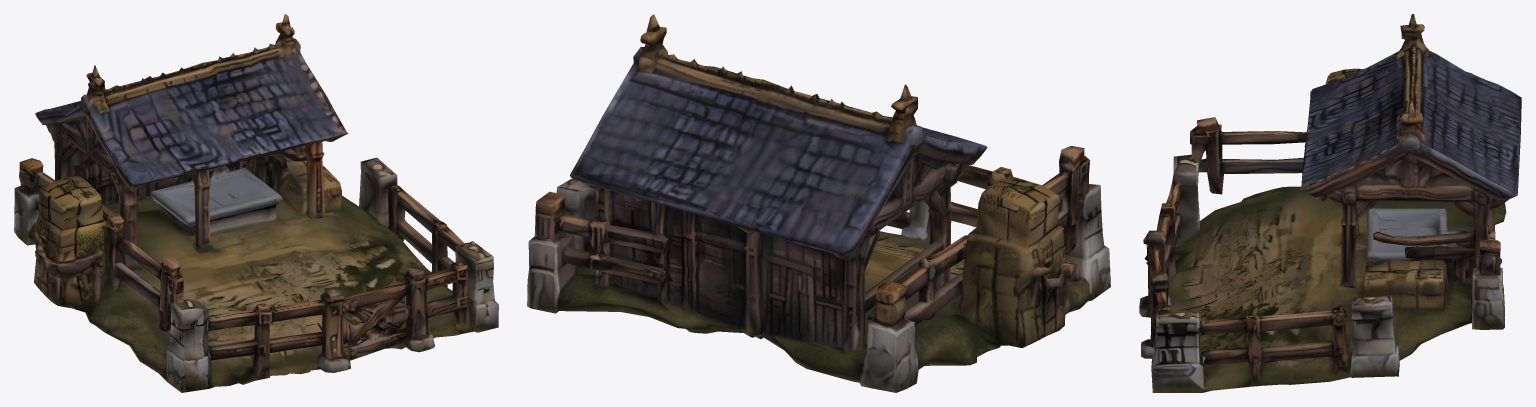
Rendered from n_barn.glb.
3 renders of one model, left to right at view 1: azimuth 30°, elevation 25°; view 2: azimuth 150°, elevation 25°; view 3: azimuth 270°, elevation 25°, orthographic. The views are drawn at different scales.
Visible parts, largest first — view 1: tripo_node_a6e2cb6d-843f-4073-af24-3c14b2e3cc81; view 2: tripo_node_a6e2cb6d-843f-4073-af24-3c14b2e3cc81; view 3: tripo_node_a6e2cb6d-843f-4073-af24-3c14b2e3cc81.
Part boxes in pixels (x1=…): tripo_node_a6e2cb6d-843f-4073-af24-3c14b2e3cc81: x1=14, y1=14, x2=498, y2=392; tripo_node_a6e2cb6d-843f-4073-af24-3c14b2e3cc81: x1=527, y1=14, x2=1110, y2=392; tripo_node_a6e2cb6d-843f-4073-af24-3c14b2e3cc81: x1=1139, y1=14, x2=1521, y2=392.
Size of the model in its own units: 4 by 2.51 by 3.51.
1 material, 1 textured.
